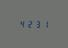four: (18, 19, 24, 27)
one: (39, 20, 45, 28)
three: (32, 19, 38, 28)
two: (25, 19, 31, 27)
